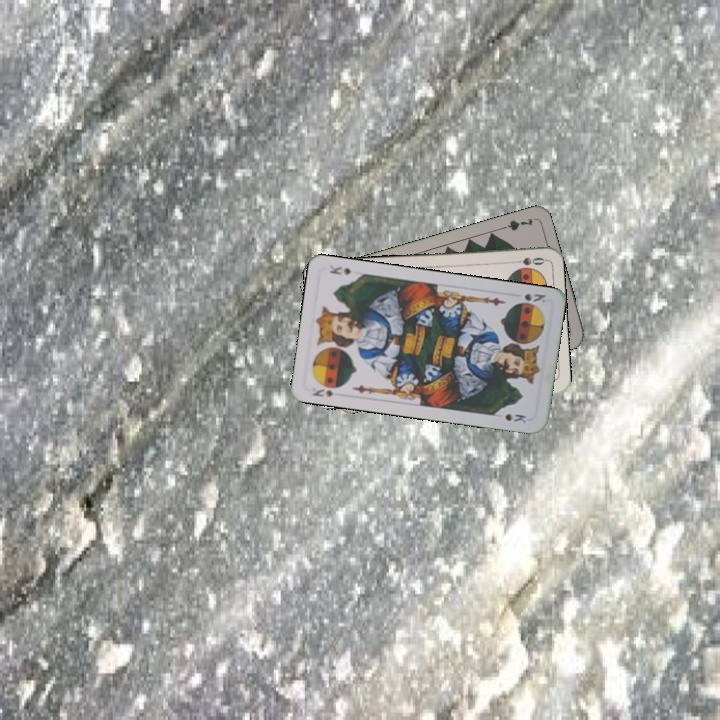G7: (495, 214, 536, 233)
SK: (306, 383, 337, 400), (520, 289, 548, 307)
SO: (507, 253, 547, 268)
